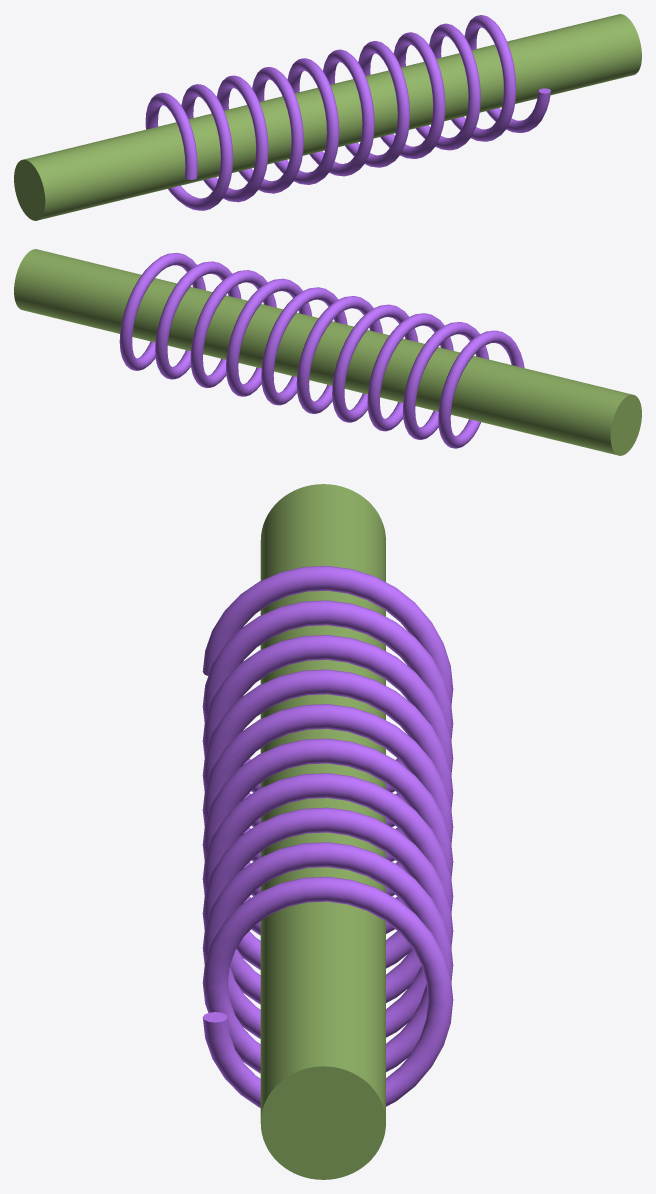
3 renders of one model, top to bottom at view 1: azimuth 30°, elevation 25°; view 2: azimuth 150°, elevation 25°; view 3: azimuth 270°, elevation 25°, orthographic. The views are drawn at different scales.
Visible parts, largest first — view 1: Object_2, split_parent_1; view 2: Object_2, split_parent_1; view 3: split_parent_1, Object_2.
Part boxes in pixels (x1=…): Object_2: x1=14, y1=14, x2=641, y2=220; split_parent_1: x1=145, y1=15, x2=550, y2=210; Object_2: x1=14, y1=249, x2=641, y2=455; split_parent_1: x1=119, y1=252, x2=524, y2=448; split_parent_1: x1=202, y1=566, x2=453, y2=1107; Object_2: x1=260, y1=484, x2=385, y2=1179.
Bounding box in the file's own units: 1 × 0.1818 × 0.1818.
